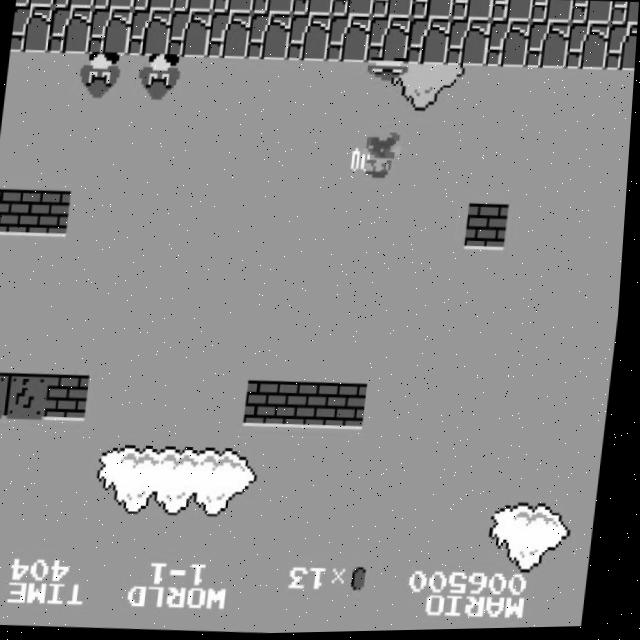1- brick_block: (328, 384, 374, 432), (288, 383, 334, 431), (248, 381, 294, 429), (49, 374, 95, 422), (28, 190, 74, 238), (467, 205, 512, 254), (0, 188, 33, 237)
11- little_mario: (359, 133, 407, 184)
13- mystery_block: (9, 373, 55, 420), (0, 371, 14, 419)
17- undestructible_block: (406, 19, 452, 68), (247, 13, 293, 62), (207, 12, 253, 61), (167, 11, 213, 60), (127, 9, 173, 58), (87, 8, 133, 56), (566, 25, 611, 74), (526, 23, 571, 72), (446, 20, 491, 69), (367, 18, 412, 67), (327, 16, 372, 65), (48, 6, 93, 55), (486, 22, 531, 70), (287, 15, 332, 63), (11, 5, 53, 54), (606, 26, 638, 74), (571, 2, 614, 28), (531, 1, 574, 27), (491, 0, 534, 25), (451, 0, 494, 24), (411, 0, 454, 22), (371, 0, 414, 21), (331, 0, 374, 20), (291, 0, 334, 18), (251, 0, 294, 17), (610, 4, 639, 29), (212, 0, 255, 15), (172, 0, 215, 14), (132, 0, 175, 13), (92, 0, 135, 11), (52, 0, 95, 9), (16, 0, 54, 8)
8- goomba: (138, 53, 187, 104), (78, 51, 126, 103)
